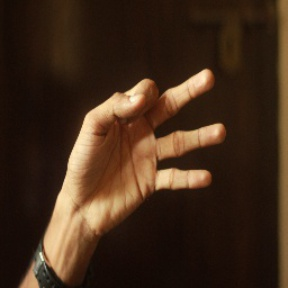K: (57, 67, 229, 215)
